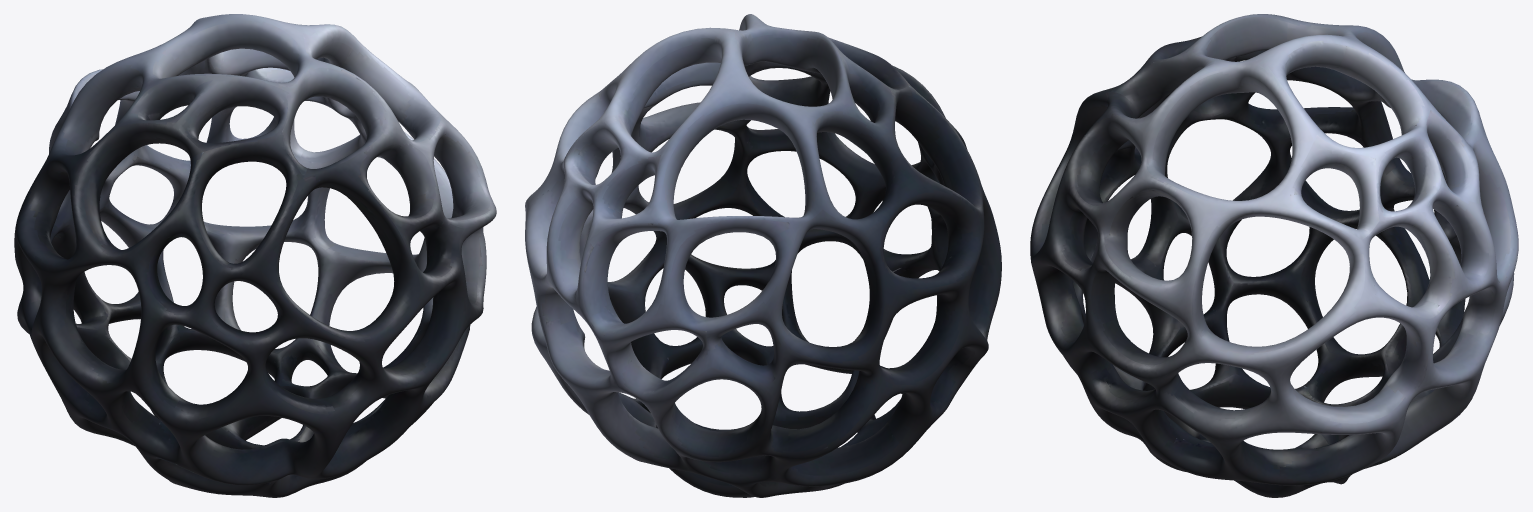
File: abstract-transformed.glb
3 views of the same model, side by side, from view 1: azimuth 30°, elevation 25°; view 2: azimuth 150°, elevation 25°; view 3: azimuth 270°, elevation 25° (orthographic).
Parts seen in each view (by area): view 1: VoronoiDyno.Bake_Material_0; view 2: VoronoiDyno.Bake_Material_0; view 3: VoronoiDyno.Bake_Material_0.
Part boxes in pixels (left/top/right/bottom): VoronoiDyno.Bake_Material_0: left=14, top=14, right=496, bottom=497; VoronoiDyno.Bake_Material_0: left=525, top=14, right=1001, bottom=497; VoronoiDyno.Bake_Material_0: left=1030, top=14, right=1518, bottom=497.
Bounding box in the file's own units: 187 × 190 × 185.
1 material, 1 textured.
